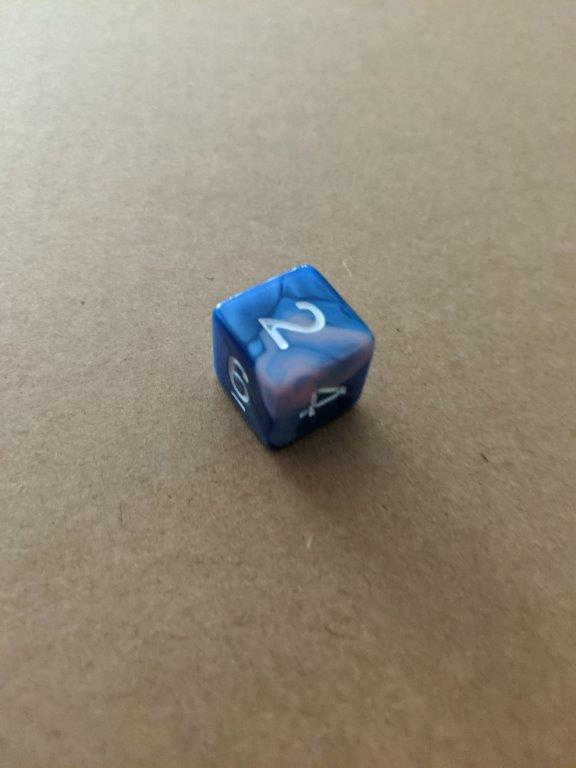d6-2: (211, 261, 377, 451)
